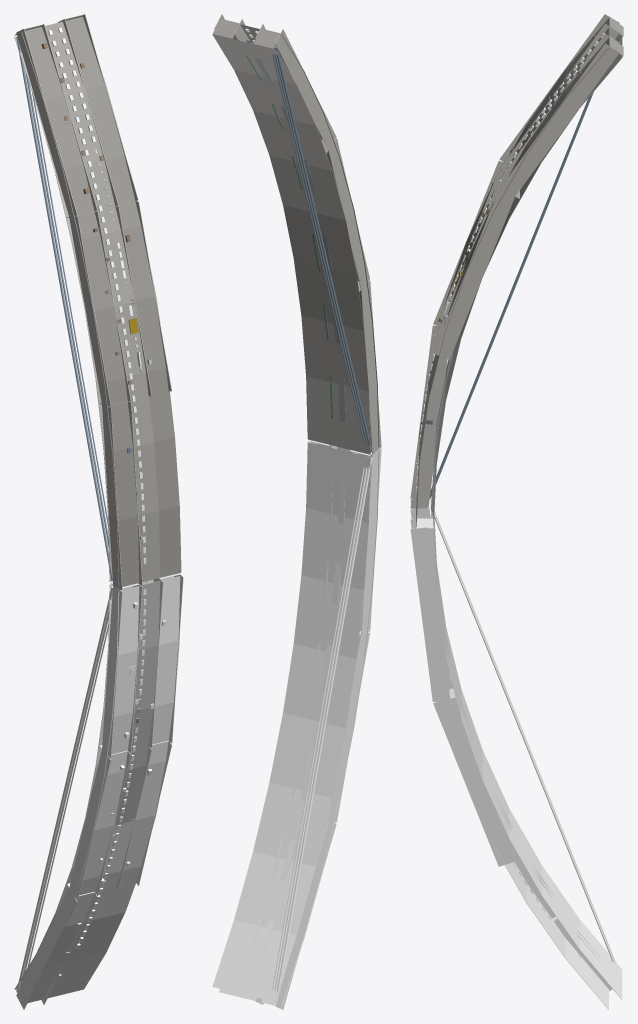
The model's file is xuanshu_interior_C56.glb.
The picture shows the model from 3 angles, left to right: view 1: azimuth 30°, elevation 25°; view 2: azimuth 150°, elevation 25°; view 3: azimuth 270°, elevation 25°; orthographic projection.
Parts seen in each view (by area): view 1: UNIT-ATM-005_S0; view 2: UNIT-ATM-005_S0; view 3: UNIT-ATM-005_S0.
Boxes of the visible parts, box(x1,y1,x2,y2) form: UNIT-ATM-005_S0: box(14, 14, 183, 1009); UNIT-ATM-005_S0: box(212, 14, 381, 1009); UNIT-ATM-005_S0: box(410, 14, 623, 1009).
Size of the model in its own units: 13.31 by 198 by 39.45.
